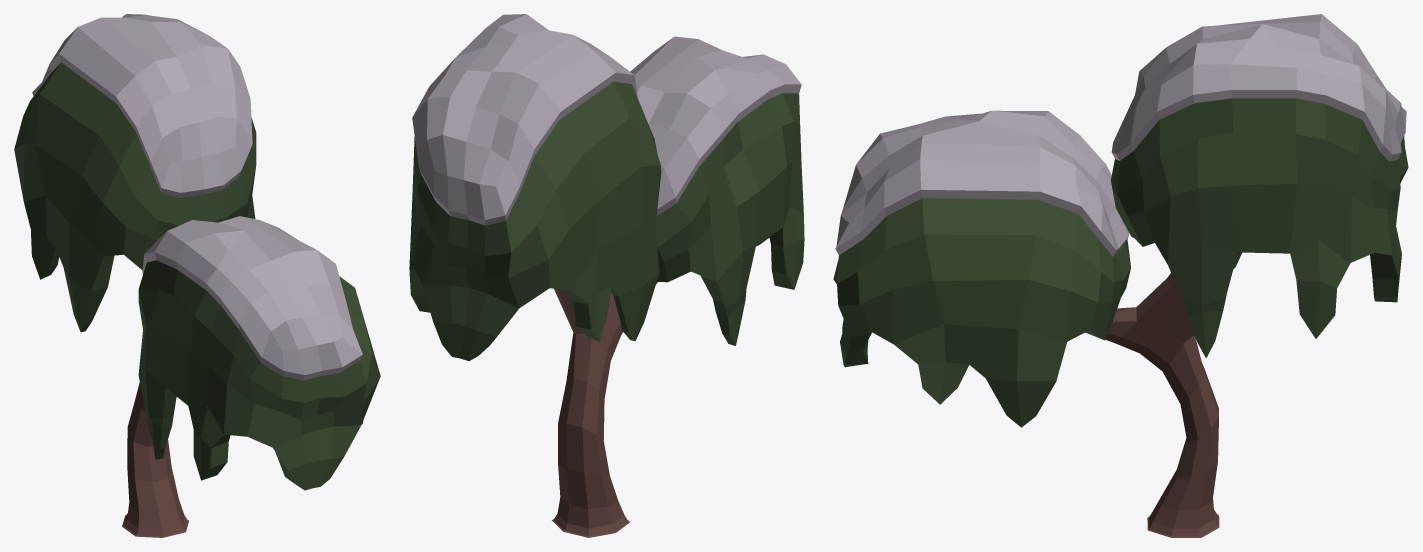
The model's file is Willow_Snow_5.gltf.
3 renders of one model, left to right at view 1: azimuth 30°, elevation 25°; view 2: azimuth 150°, elevation 25°; view 3: azimuth 270°, elevation 25°, orthographic. The views are drawn at different scales.
Parts seen in each view (by area): view 1: Willow_Snow_5; view 2: Willow_Snow_5; view 3: Willow_Snow_5.
Part boxes in pixels (<box>): Willow_Snow_5: <box>14,14,380,537</box>; Willow_Snow_5: <box>409,14,804,537</box>; Willow_Snow_5: <box>833,14,1408,537</box>.
Bounding box in the file's own units: 1.01 × 2.46 × 2.49.
